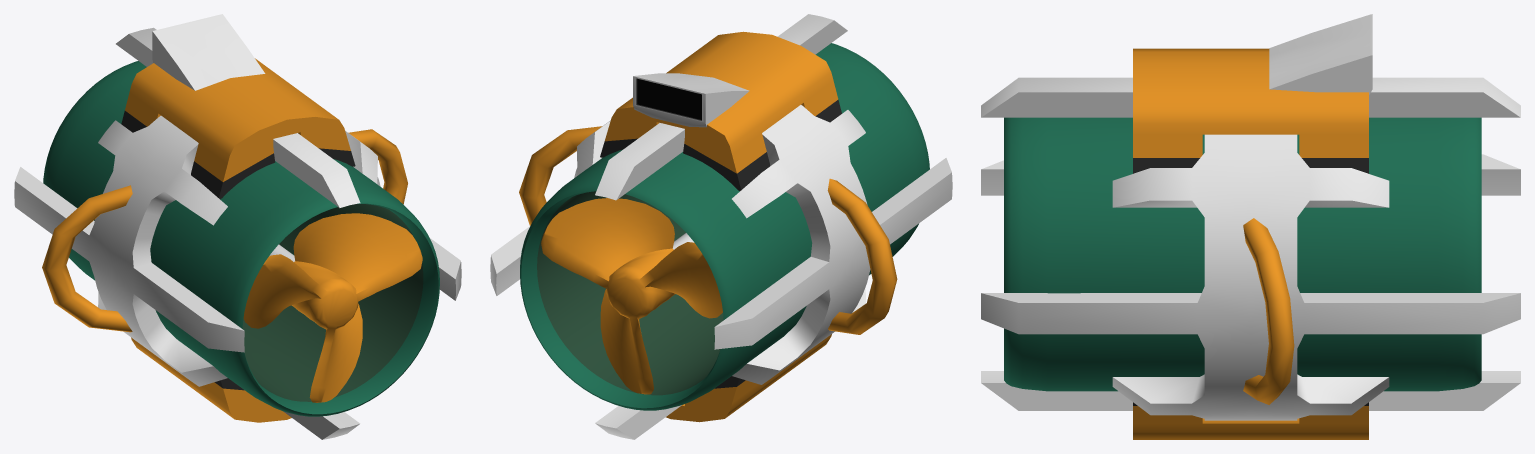
The model's file is player_scooter.fbx.
3 views of the same model, side by side, from view 1: azimuth 30°, elevation 25°; view 2: azimuth 150°, elevation 25°; view 3: azimuth 270°, elevation 25° (orthographic). The views are drawn at different scales.
Parts seen in each view (by area): view 1: player_scooter, player_scooter_propellor; view 2: player_scooter, player_scooter_propellor; view 3: player_scooter.
Boxes of the visible parts, bbox=[...] form: player_scooter: bbox=[14, 14, 461, 439]; player_scooter_propellor: bbox=[243, 213, 422, 402]; player_scooter: bbox=[490, 14, 952, 439]; player_scooter_propellor: bbox=[541, 198, 722, 394]; player_scooter: bbox=[981, 14, 1520, 439].
Size of the model in its own units: 0.4836 by 0.4132 by 0.518.
